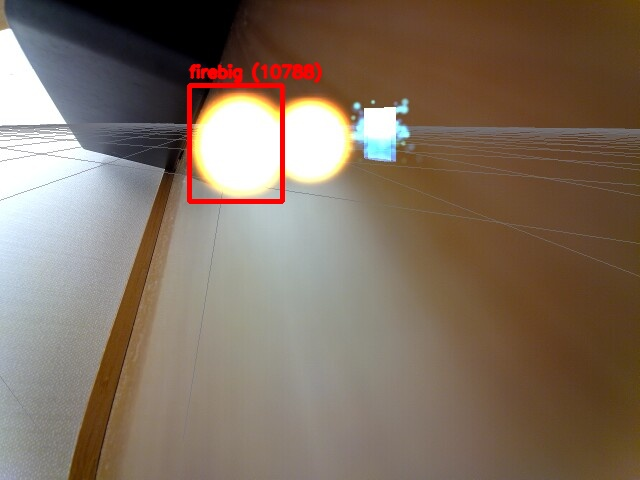firebig: (189, 85, 282, 201)
